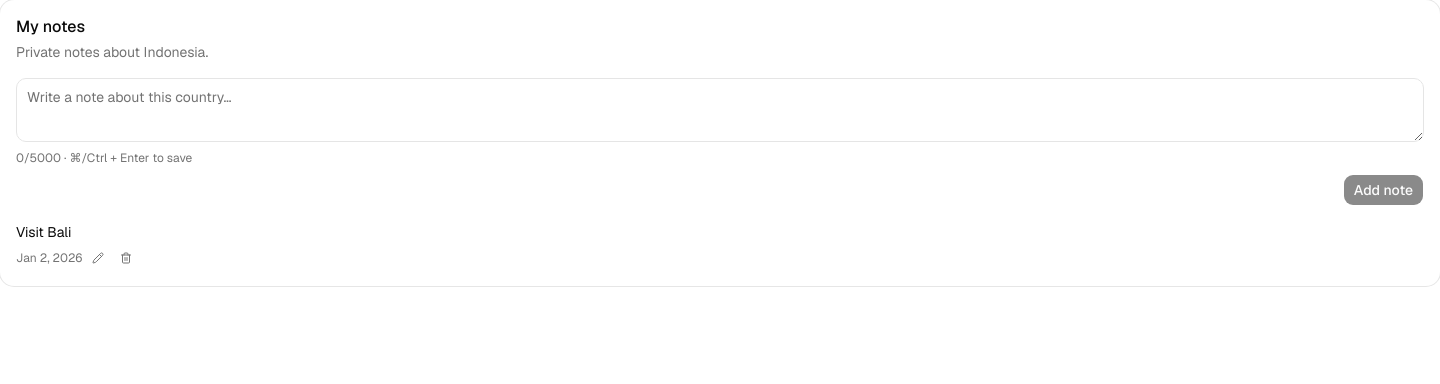
Test: CountryNotes › cancels editing without saving
Click the button named "Edit note". click: (98, 258)
box: 86,246 -> 110,270
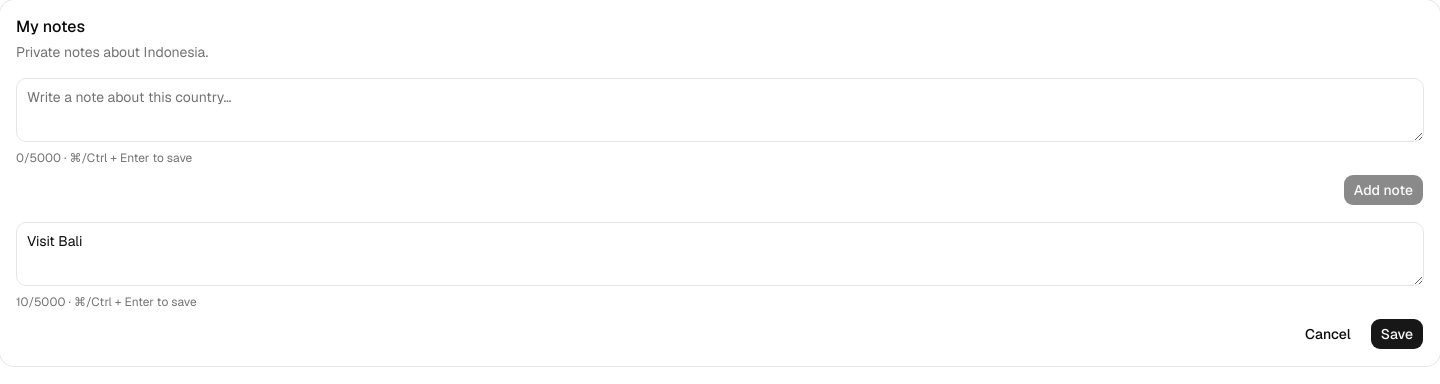
Type " soon" into the text box named "note". click: (720, 254)
box: 16,222 -> 1424,286
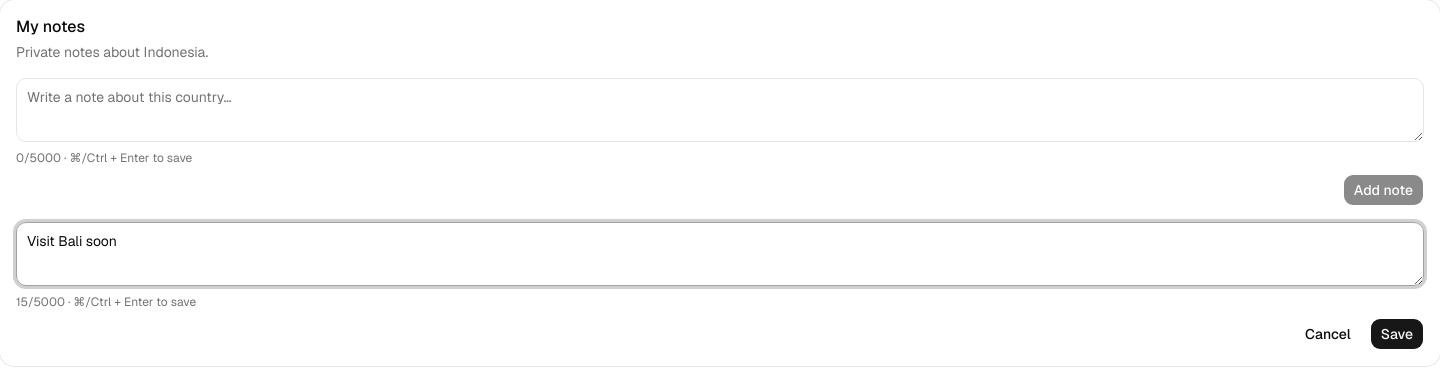
Click the button "Cancel". click: (1328, 334)
box: 1294,318 -> 1362,350
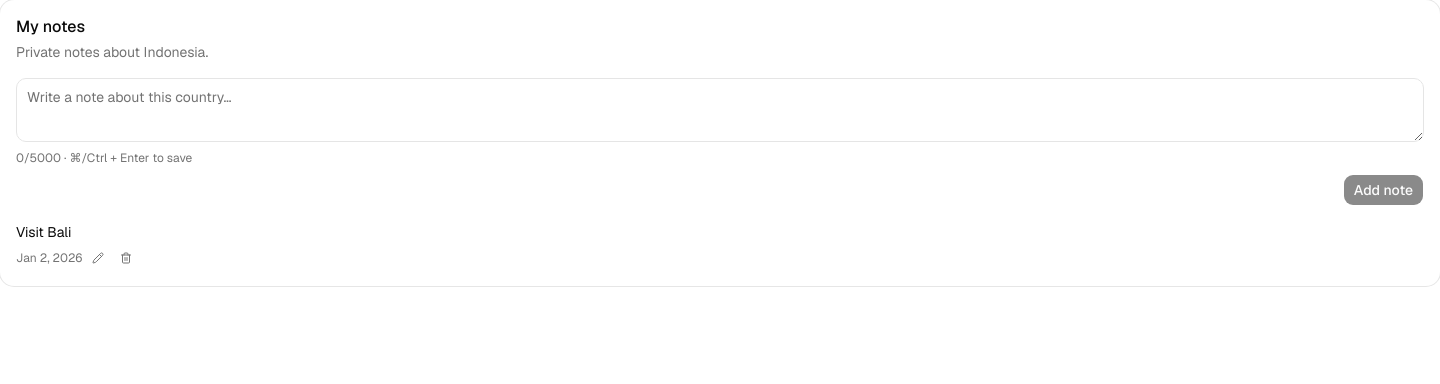
Expected: the text "Visit Bali" is shown, 16,223 -> 71,241
